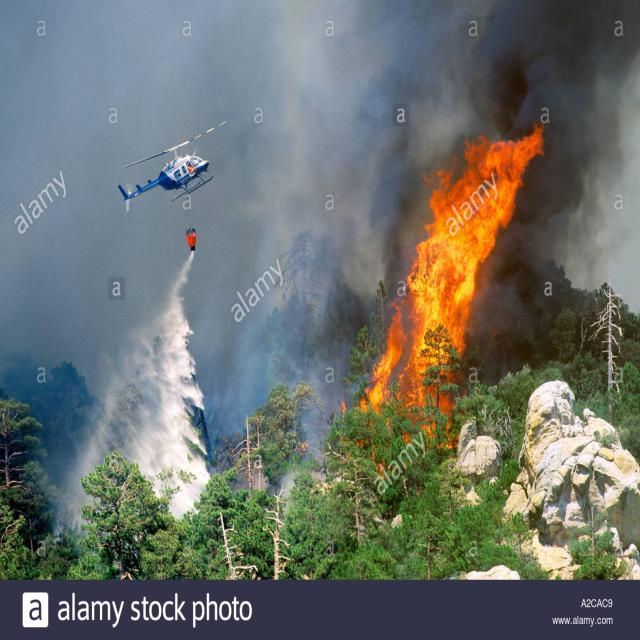Fire: (339, 140, 532, 458)
Smoke: (331, 16, 618, 333)
